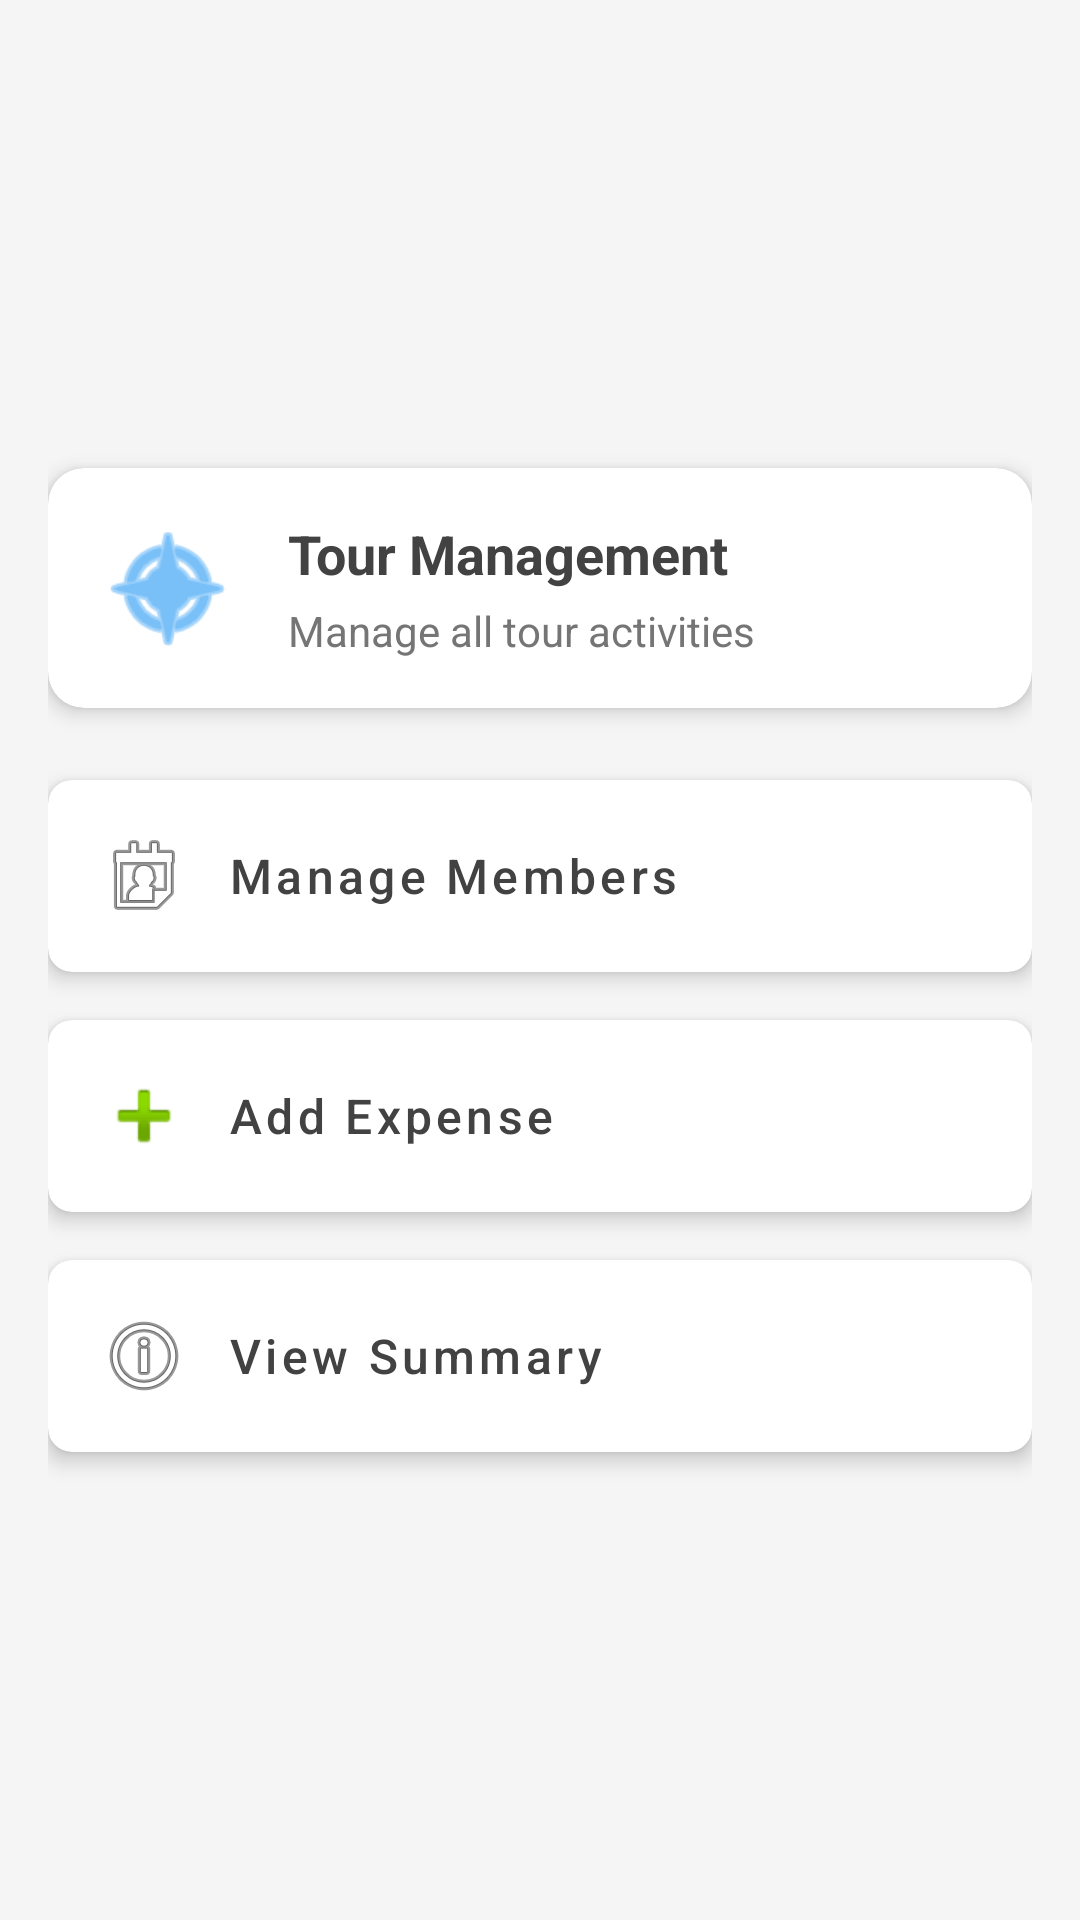

Named icons in this screenshot (1080w x 1920h) and their bounding boxes, (x1, y1, x2, y2):
compass: (111, 532, 224, 645)
